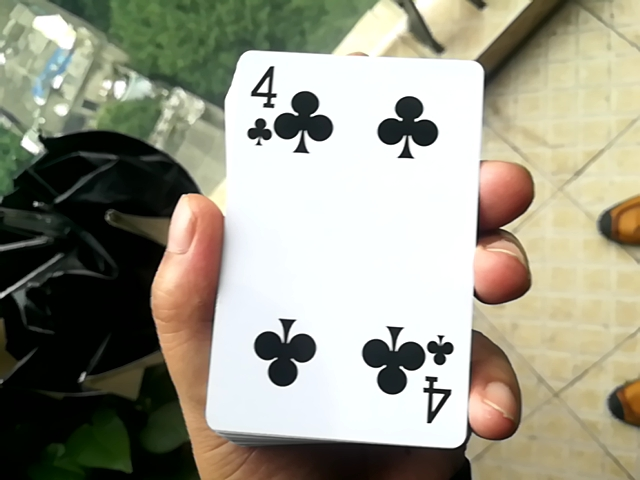mh 4: (191, 41, 484, 446)
